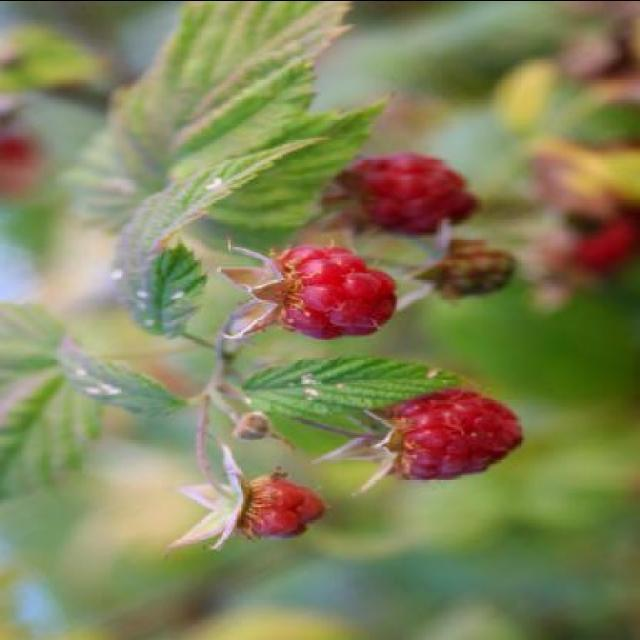Strawberry: (362, 378, 538, 482)
